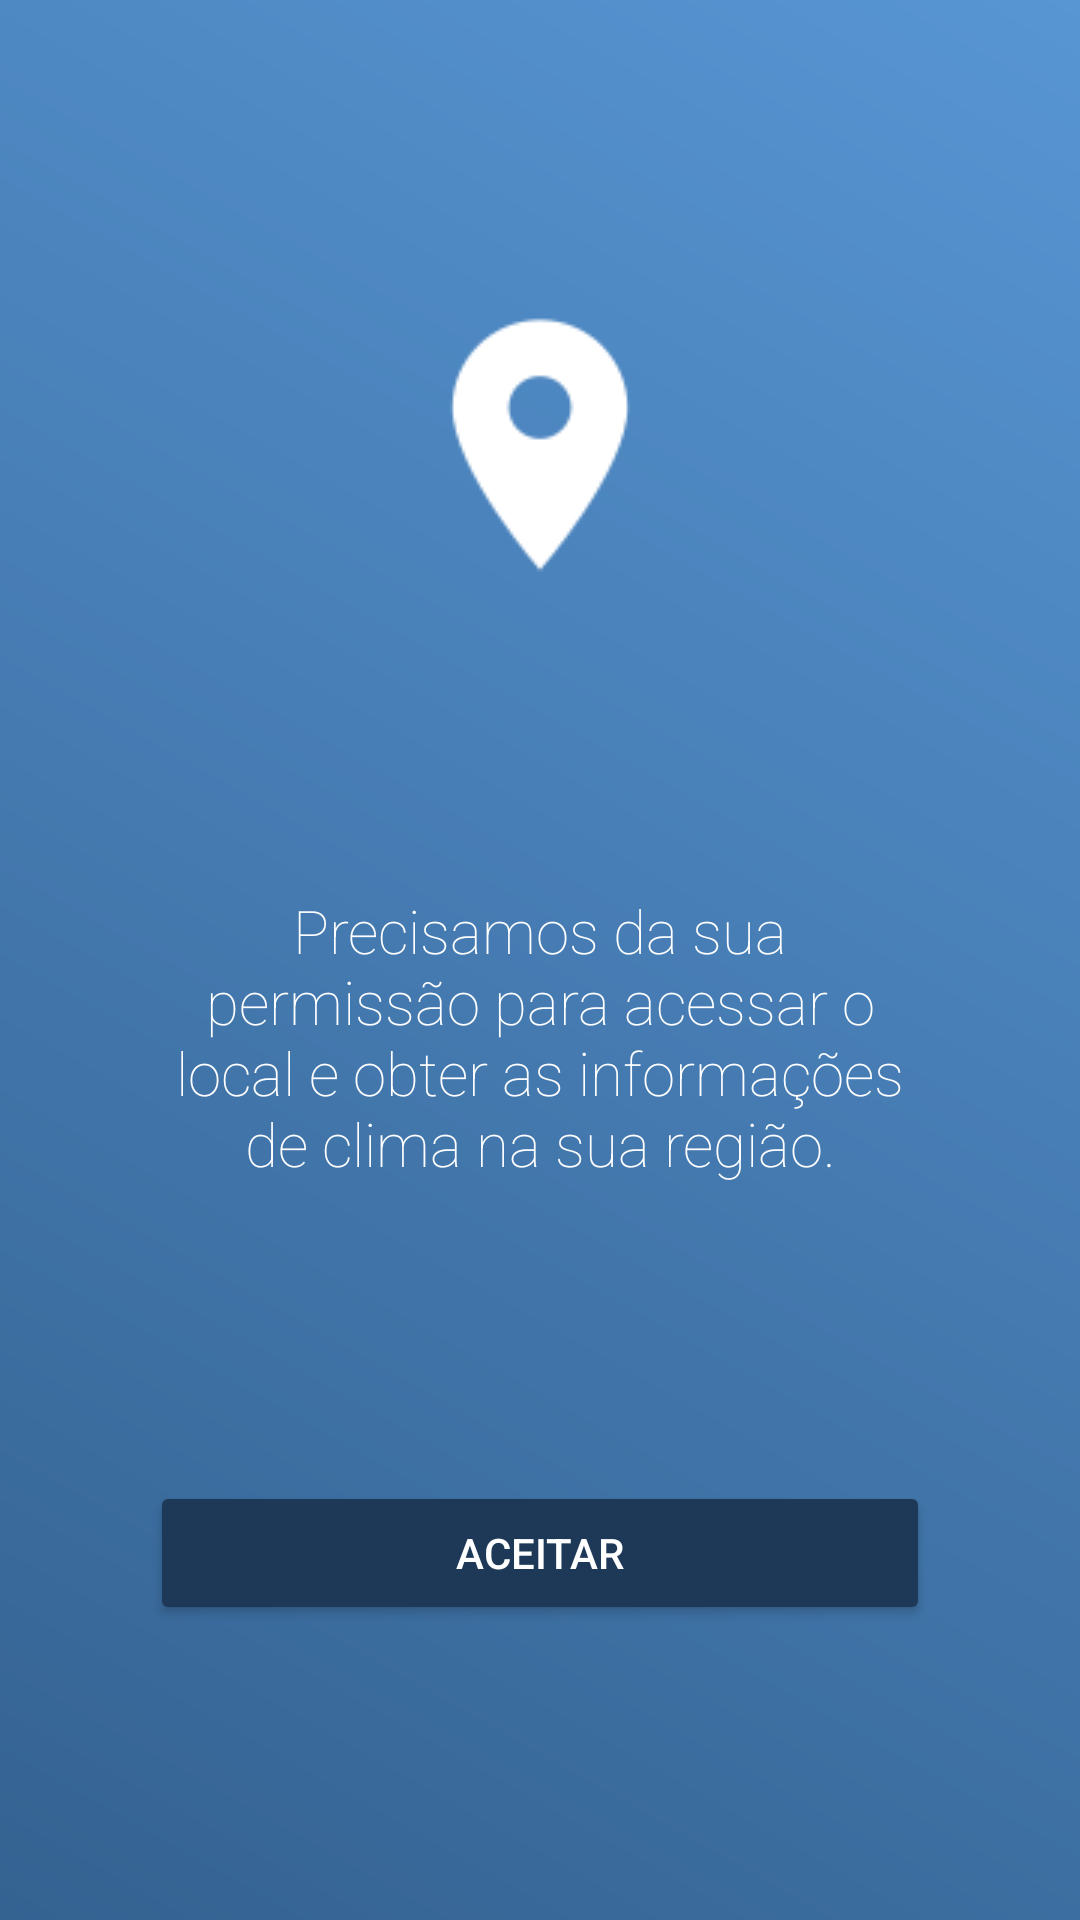

Where icons sit on this 1080w x 1920h app screen, as bbox=(x1, y1, x2, y2):
position: bbox=(451, 318, 629, 570)
